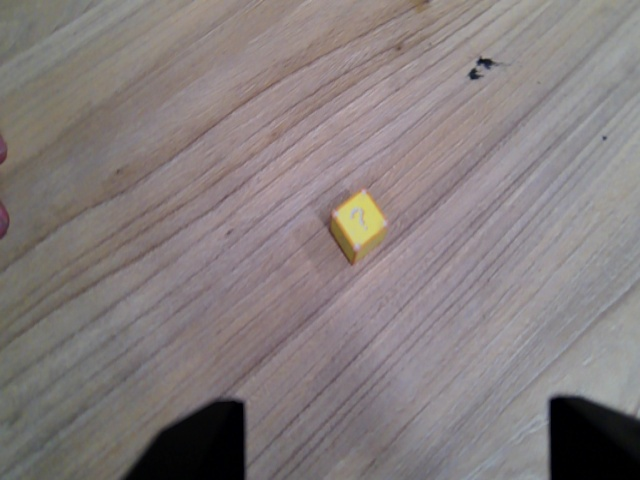lucky: (325, 189, 392, 267)
